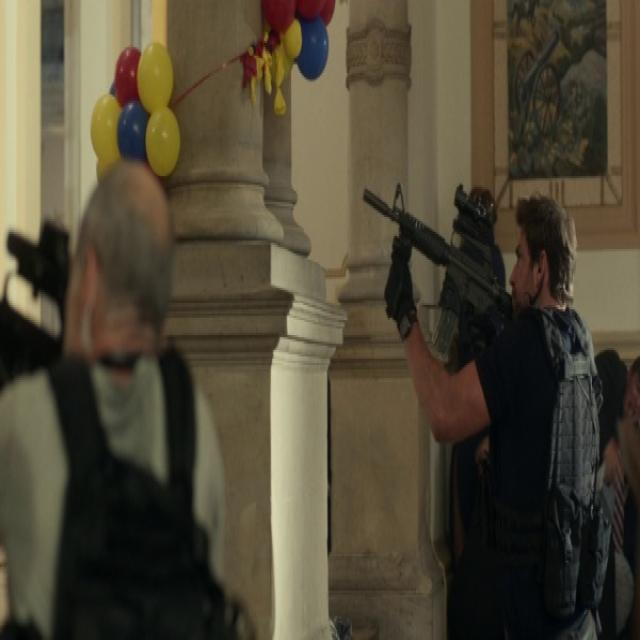rifle: (362, 165, 509, 348)
